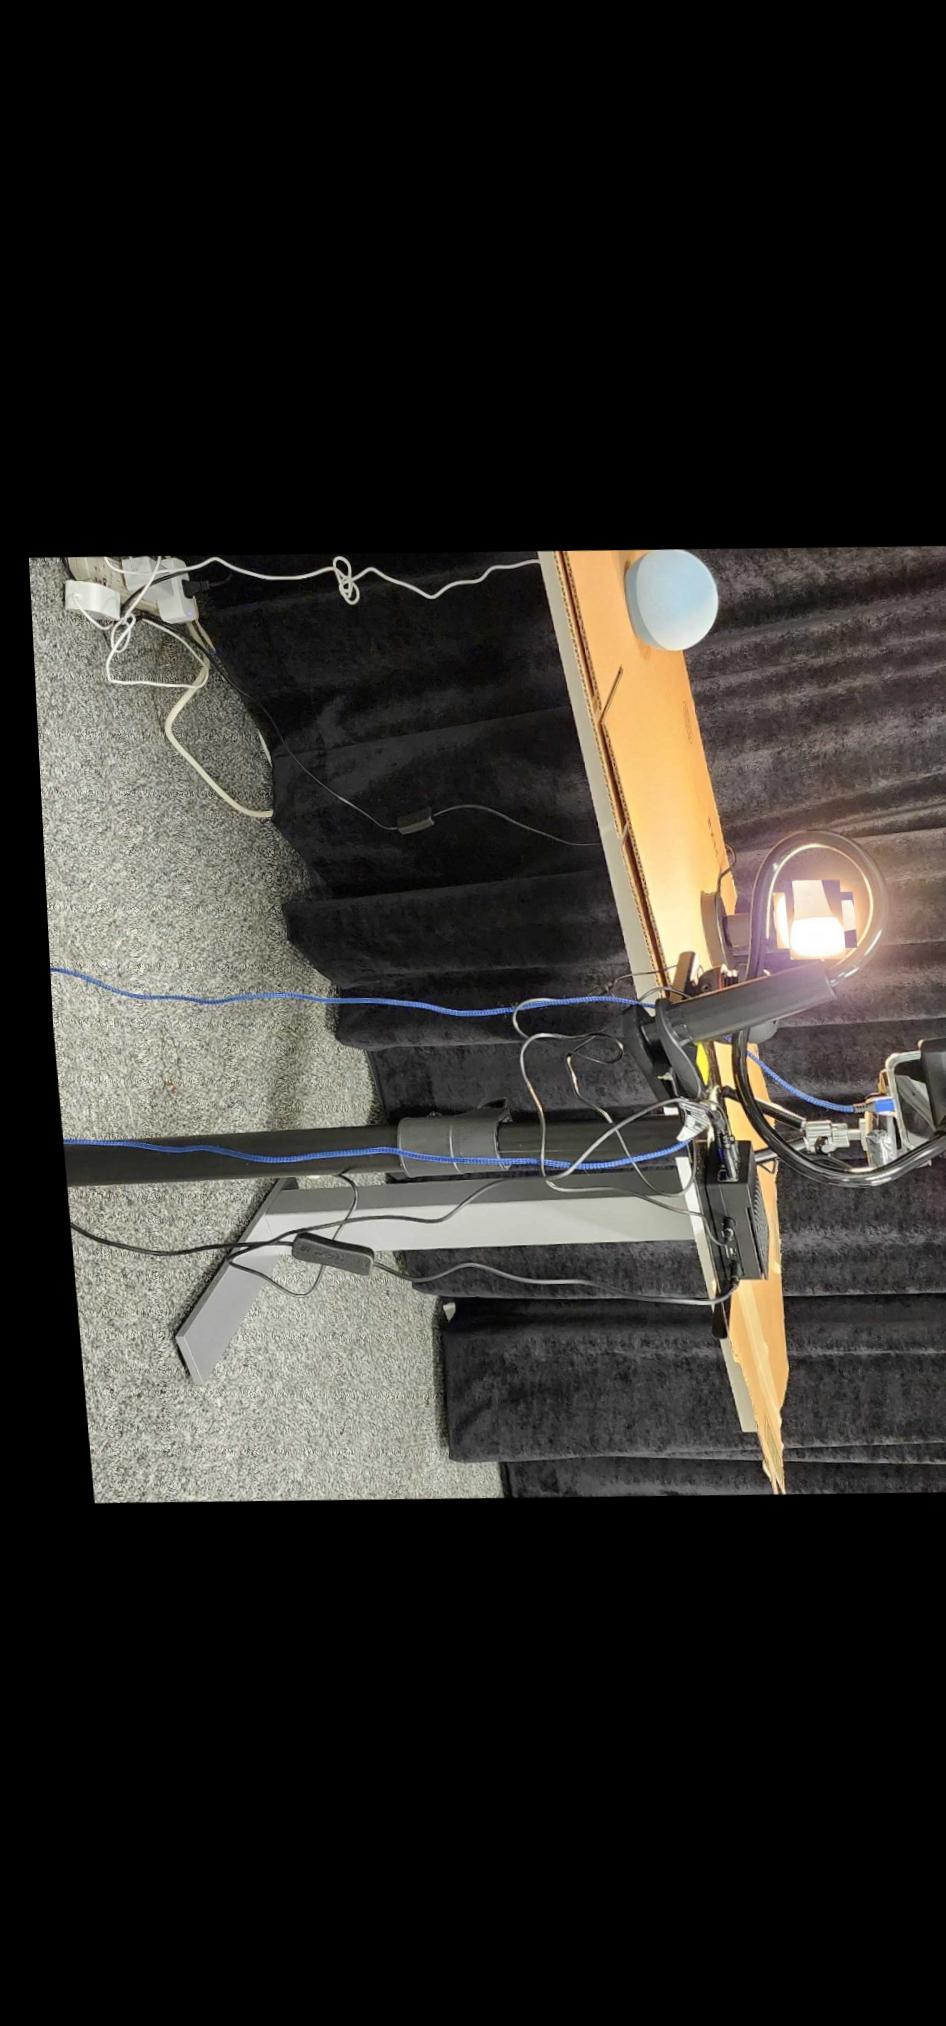TubeLight: (769, 880, 841, 951)
